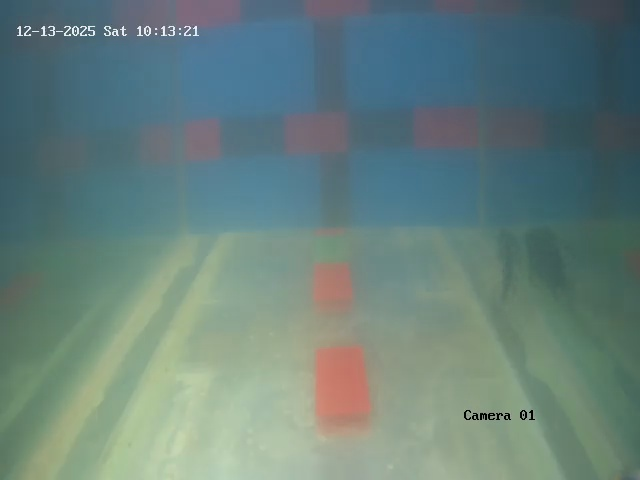fish: (488, 228, 519, 323)
